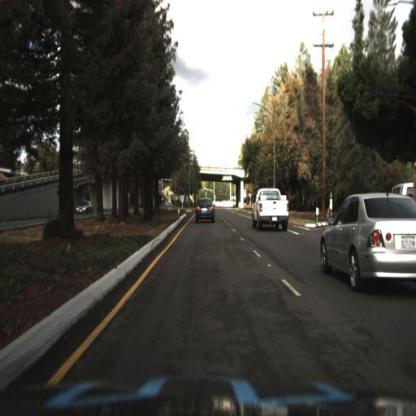car: (320, 189, 416, 292), (251, 185, 293, 236), (192, 189, 220, 233), (70, 196, 98, 221), (75, 201, 95, 222)
